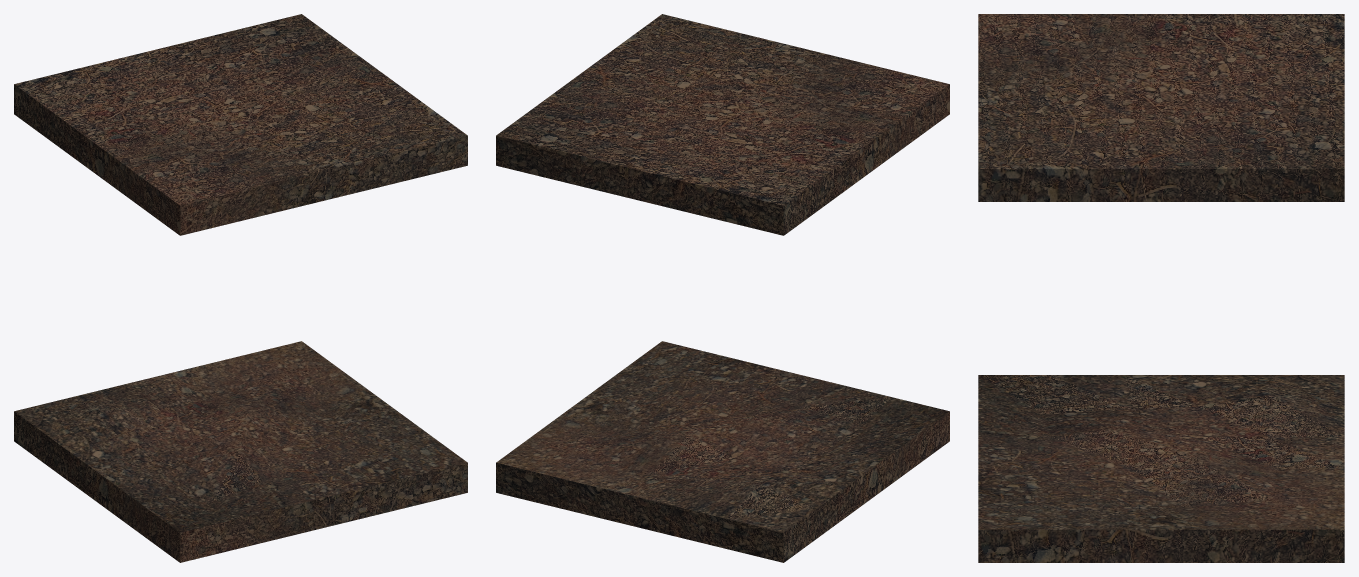
Rendered from EarthFloor5-2023.glb.
3 renders of one model, left to right at view 1: azimuth 30°, elevation 25°; view 2: azimuth 150°, elevation 25°; view 3: azimuth 270°, elevation 25°, orthographic. The views are drawn at different scales.
Visible parts, largest first — view 1: Cube; view 2: Cube; view 3: Cube.
Part boxes in pixels (<box>): Cube: <box>14,14,467,562</box>; Cube: <box>496,14,949,562</box>; Cube: <box>978,14,1344,562</box>.
Size of the model in its own units: 2 by 2.37 by 2.
1 material, 1 textured.
